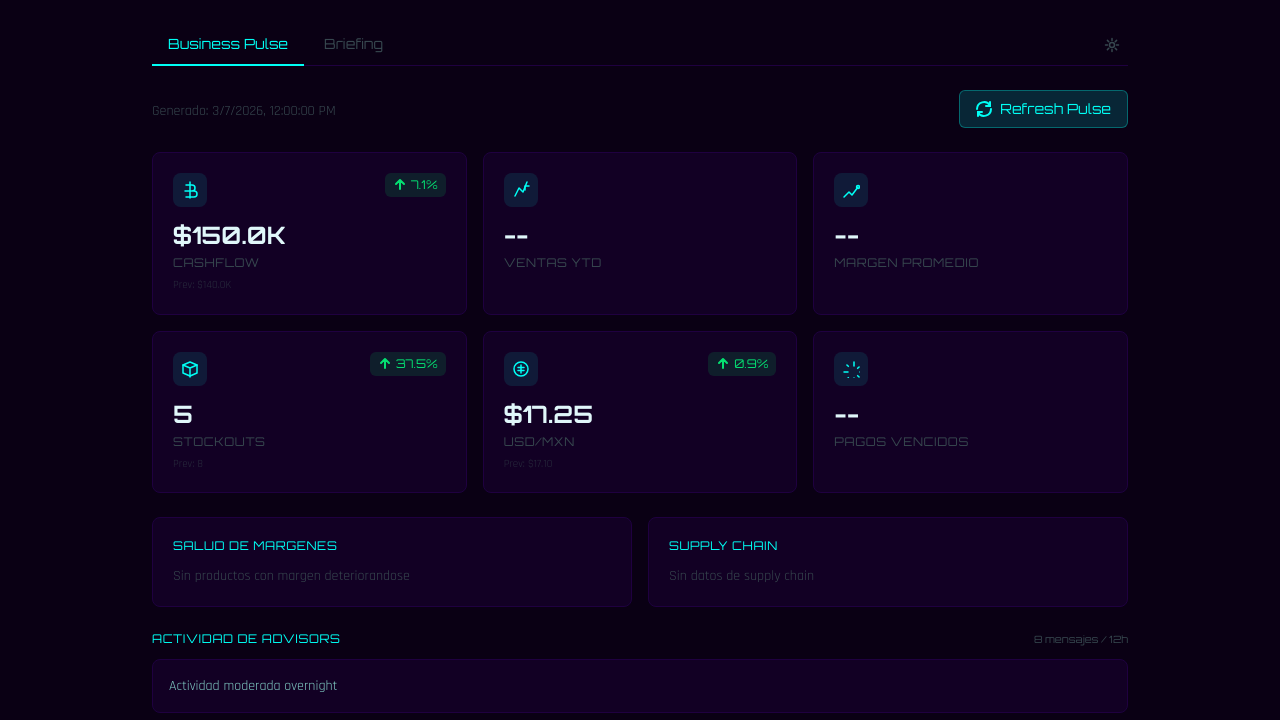
it: Briefing Tab › renders briefing tab with quote, weather, exchange rate
Note: Switch to briefing tab
Click the button with test id "tab-briefing": click(354, 45) [308,24,399,66]
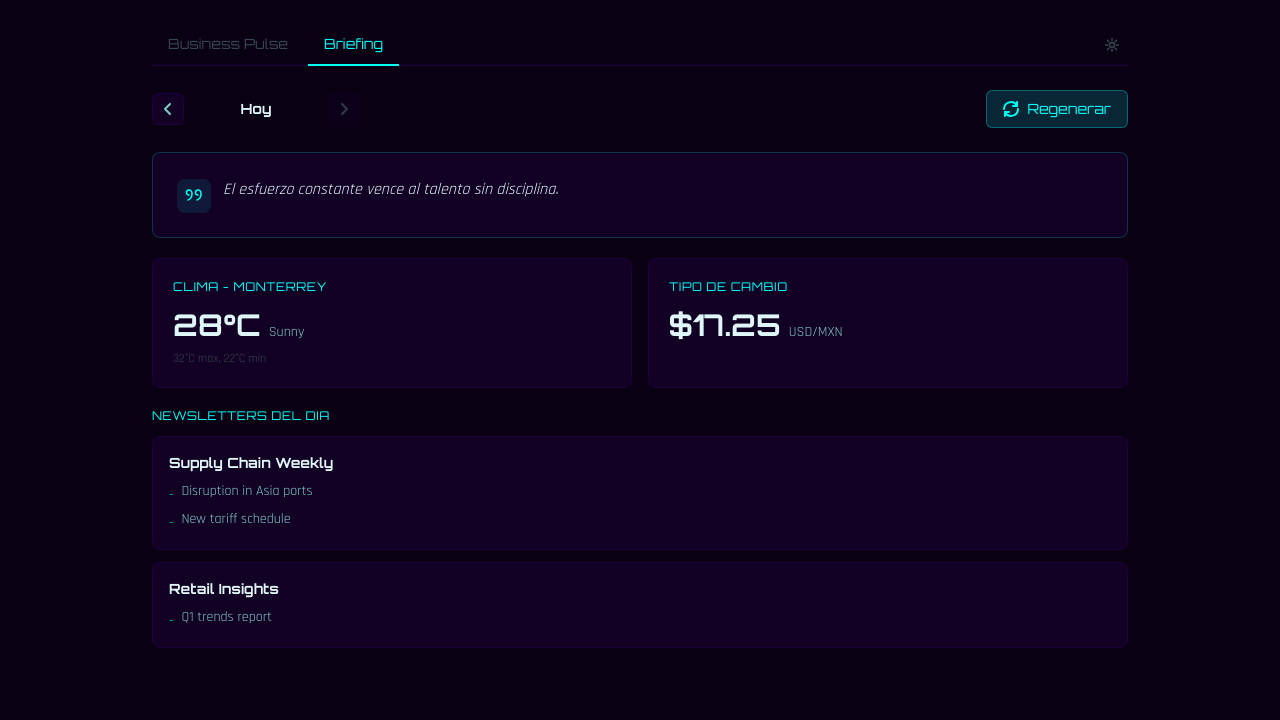
expect the element with test id "briefing-tab" is shown: met, box [152,90,1128,648]
expect the element with test id "briefing-quote" is shown: met, box [152,152,1128,238]
expect the text "El esfuerzo constante vence al talento sin disciplina." is shown: met, box [223,177,558,203]
